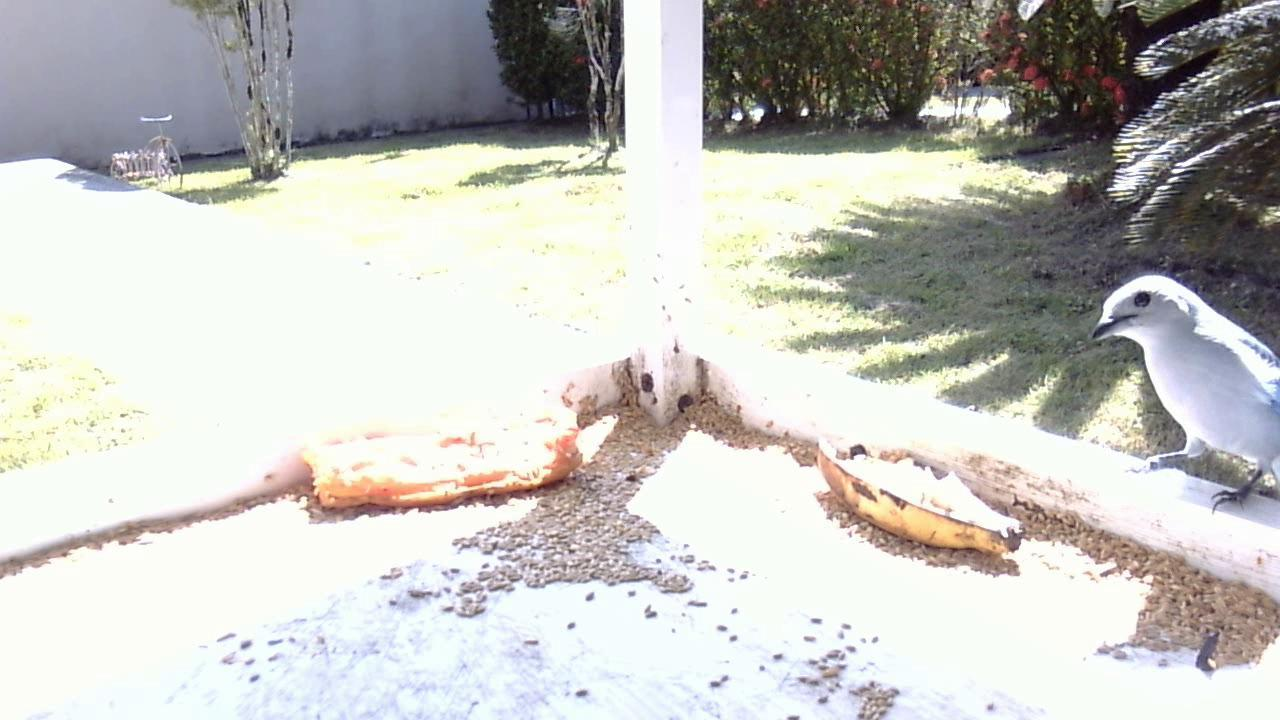sanhaco_da_amazonia: (1079, 264, 1280, 524)
